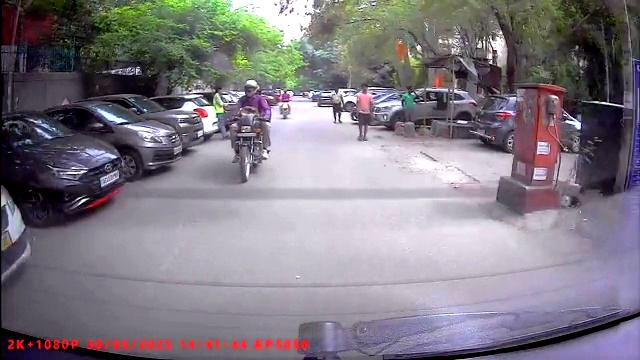motorcycle_with_helmet: (226, 77, 273, 183)
